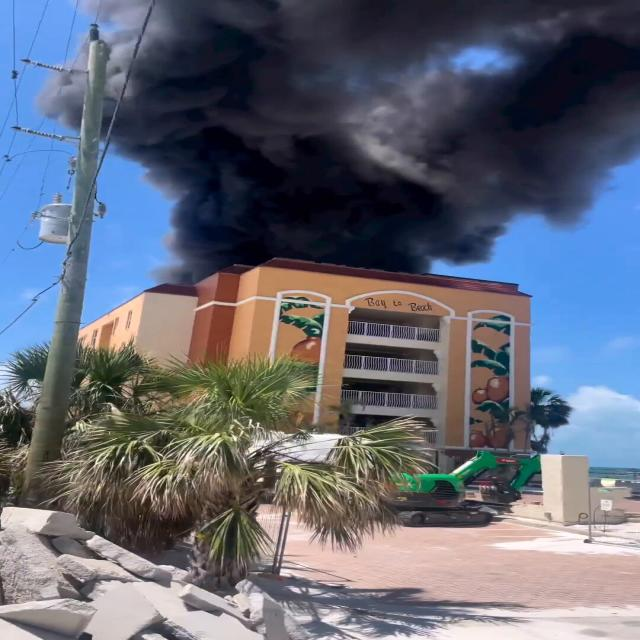smoke: (130, 12, 575, 234)
